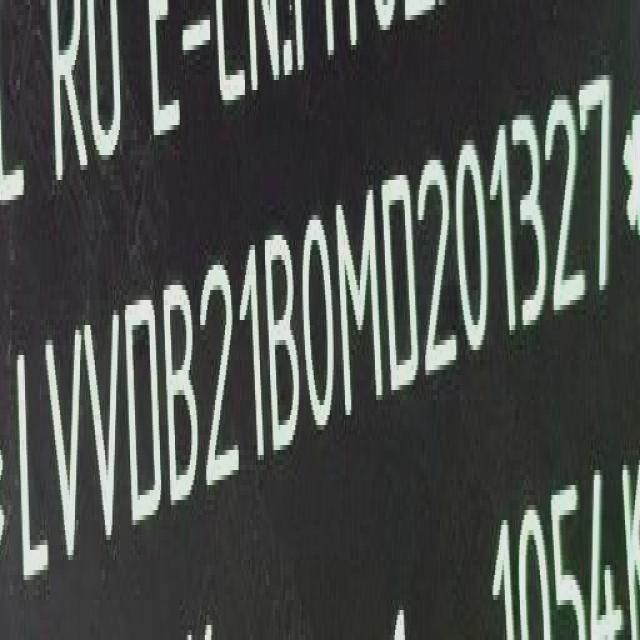0: (301, 209, 337, 433), (453, 135, 487, 358)
1: (238, 243, 265, 470), (488, 122, 514, 339)
2: (420, 154, 459, 378), (550, 90, 587, 322), (204, 267, 239, 492)
3: (515, 104, 551, 332)
7: (582, 64, 619, 298)
B: (164, 279, 201, 508), (269, 232, 303, 460)
D: (384, 170, 424, 392), (124, 297, 162, 530)
L: (14, 346, 48, 588)
M: (338, 187, 386, 417)
V: (44, 326, 81, 575), (86, 309, 123, 557)
